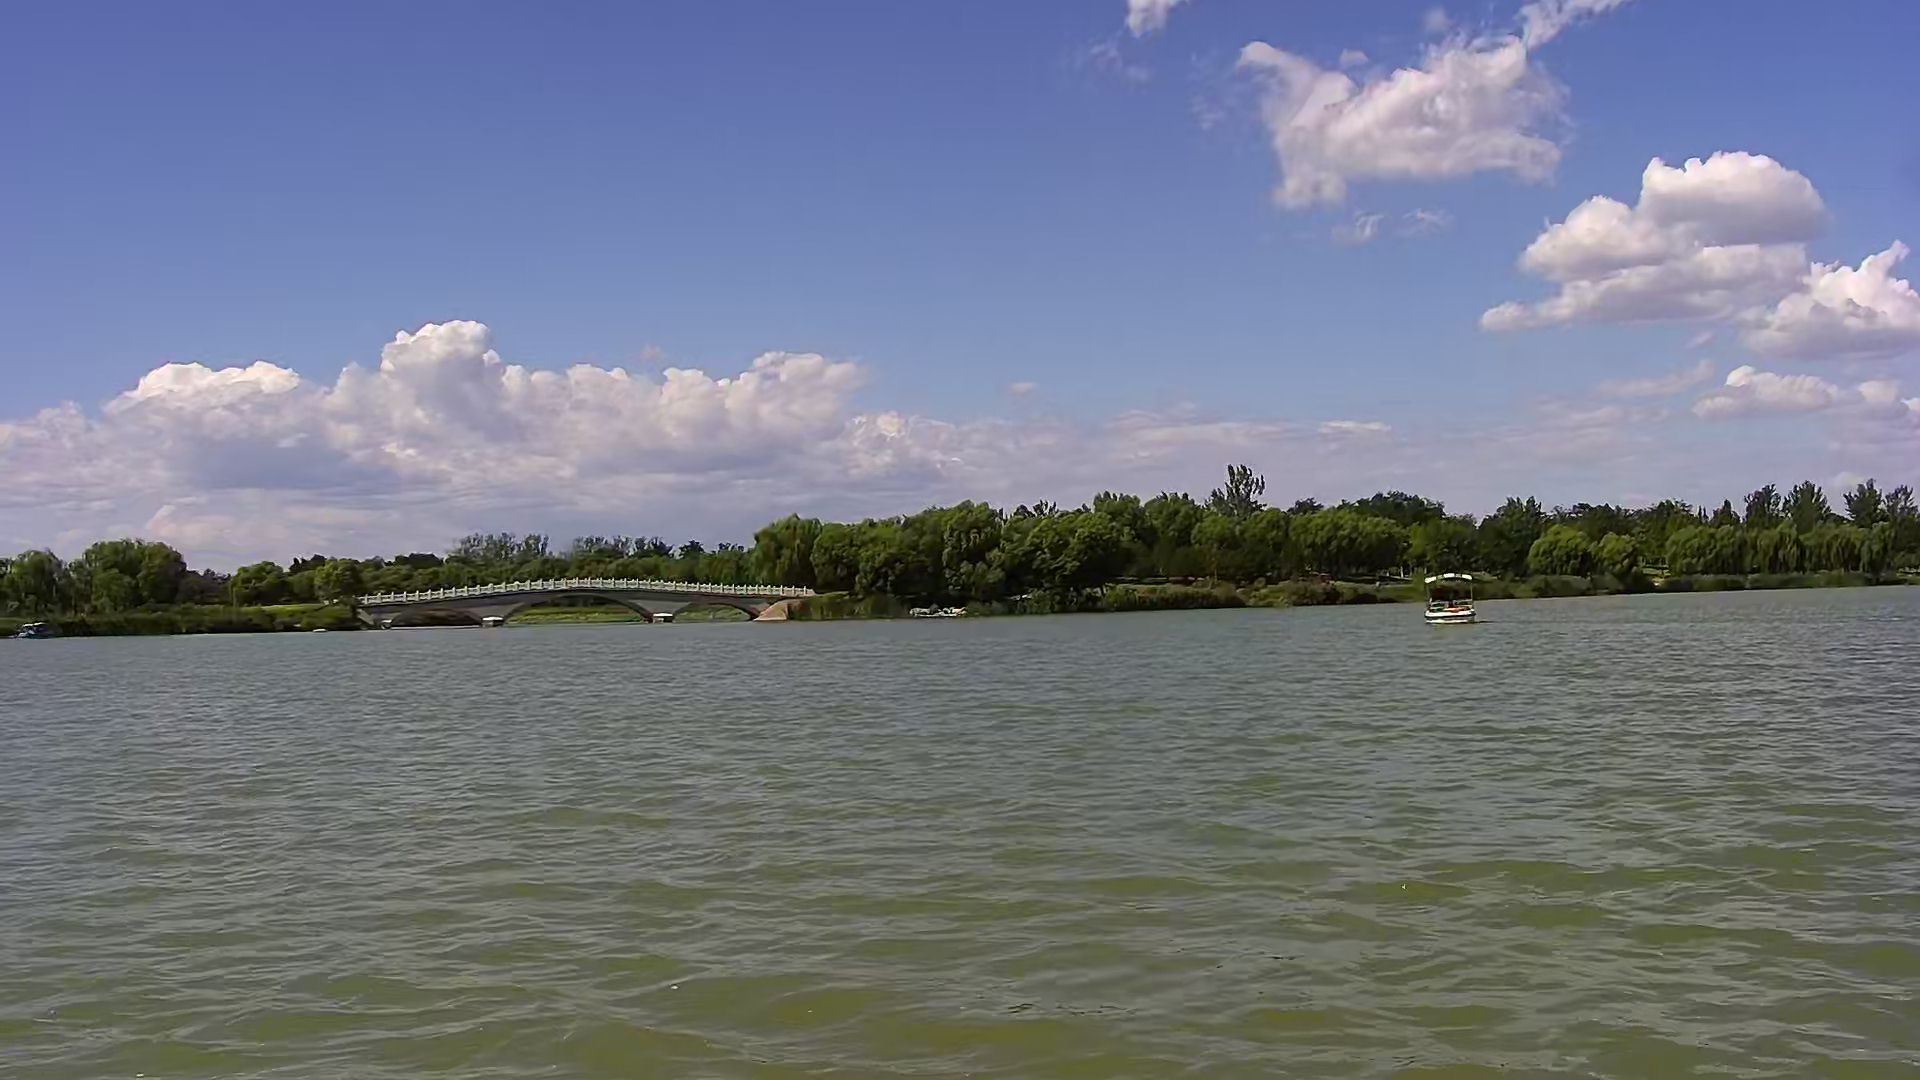boat: (1423, 568, 1469, 628)
bridge: (378, 580, 786, 626)
